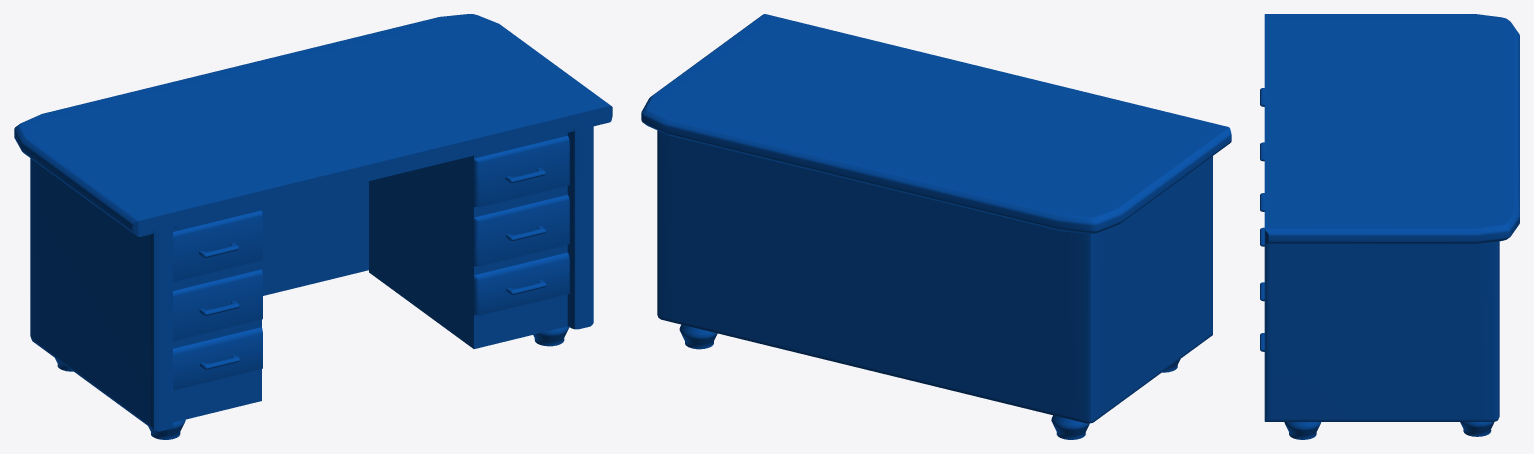
File: geo_bureauUV3.fbx
3 renders of one model, left to right at view 1: azimuth 30°, elevation 25°; view 2: azimuth 150°, elevation 25°; view 3: azimuth 270°, elevation 25°, orthographic. The views are drawn at different scales.
Parts seen in each view (by area): view 1: bureau, poignees; view 2: bureau; view 3: bureau, poignees.
Part boxes in pixels (box(x1,y1,x2,y2)): bureau: box(14, 14, 612, 439); poignees: box(199, 168, 546, 369); bureau: box(641, 14, 1231, 439); bureau: box(1264, 14, 1519, 439); poignees: box(1260, 88, 1264, 351).
Bounding box in the file's own units: 18.71 × 8.93 × 9.38.
